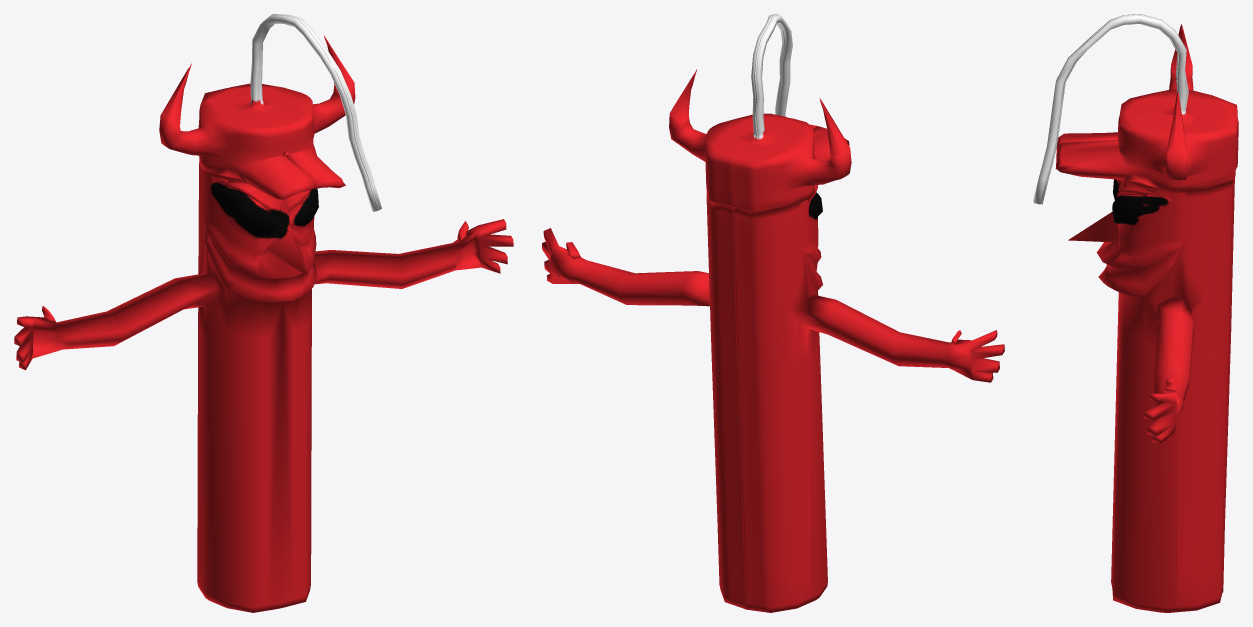
The model's file is Risky_5.glb.
The picture shows the model from 3 angles, left to right: view 1: azimuth 30°, elevation 25°; view 2: azimuth 150°, elevation 25°; view 3: azimuth 270°, elevation 25°; orthographic projection. The views are drawn at different scales.
Visible parts, largest first — view 1: node_id5; view 2: node_id5; view 3: node_id5.
Part boxes in pixels (box(x1,y1,x2,y2)): node_id5: box(14, 14, 513, 612); node_id5: box(542, 14, 1004, 612); node_id5: box(1033, 14, 1238, 612).
Bounding box in the file's own units: 0.3115 × 0.3541 × 0.1125.
Materials: 1 (1 with a texture image).
